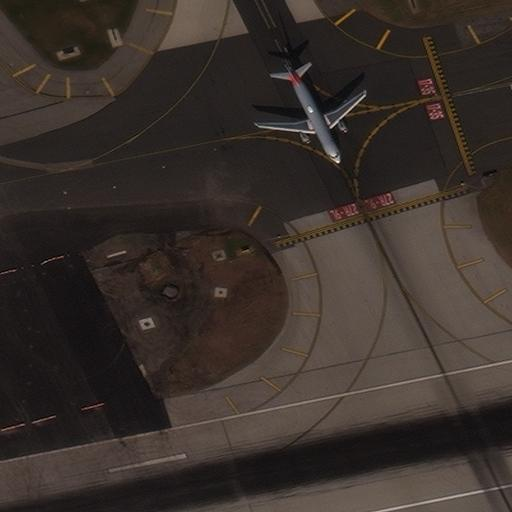Medium Civil Transport: (256, 62, 365, 161)
